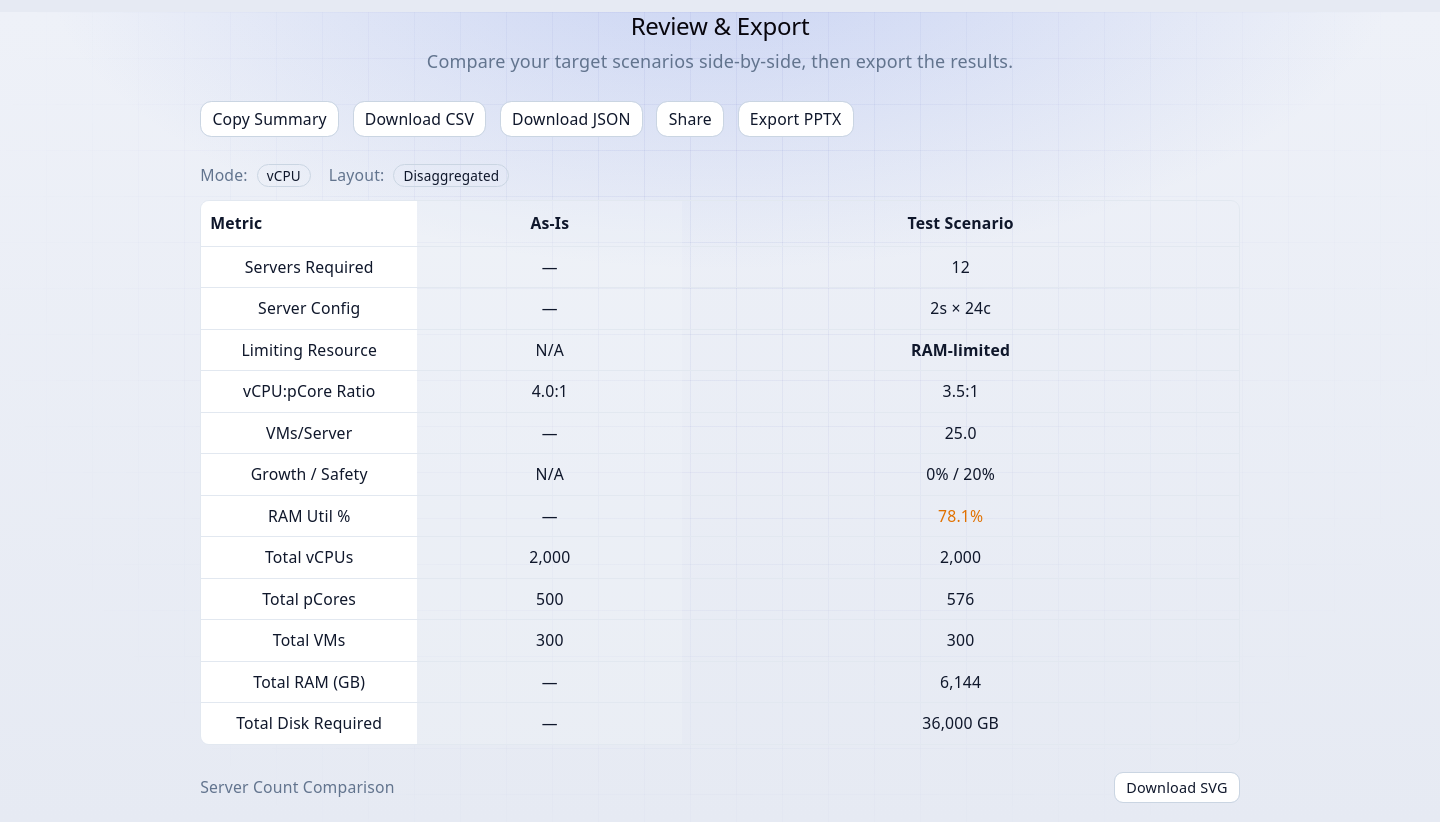
Test: Step3ReviewExport › UX-06: clipboard visual feedback › button label changes to "Copied!" immediately after successful copy
Click the button "Copy Summary": x=270, y=119 [200,101,339,137]
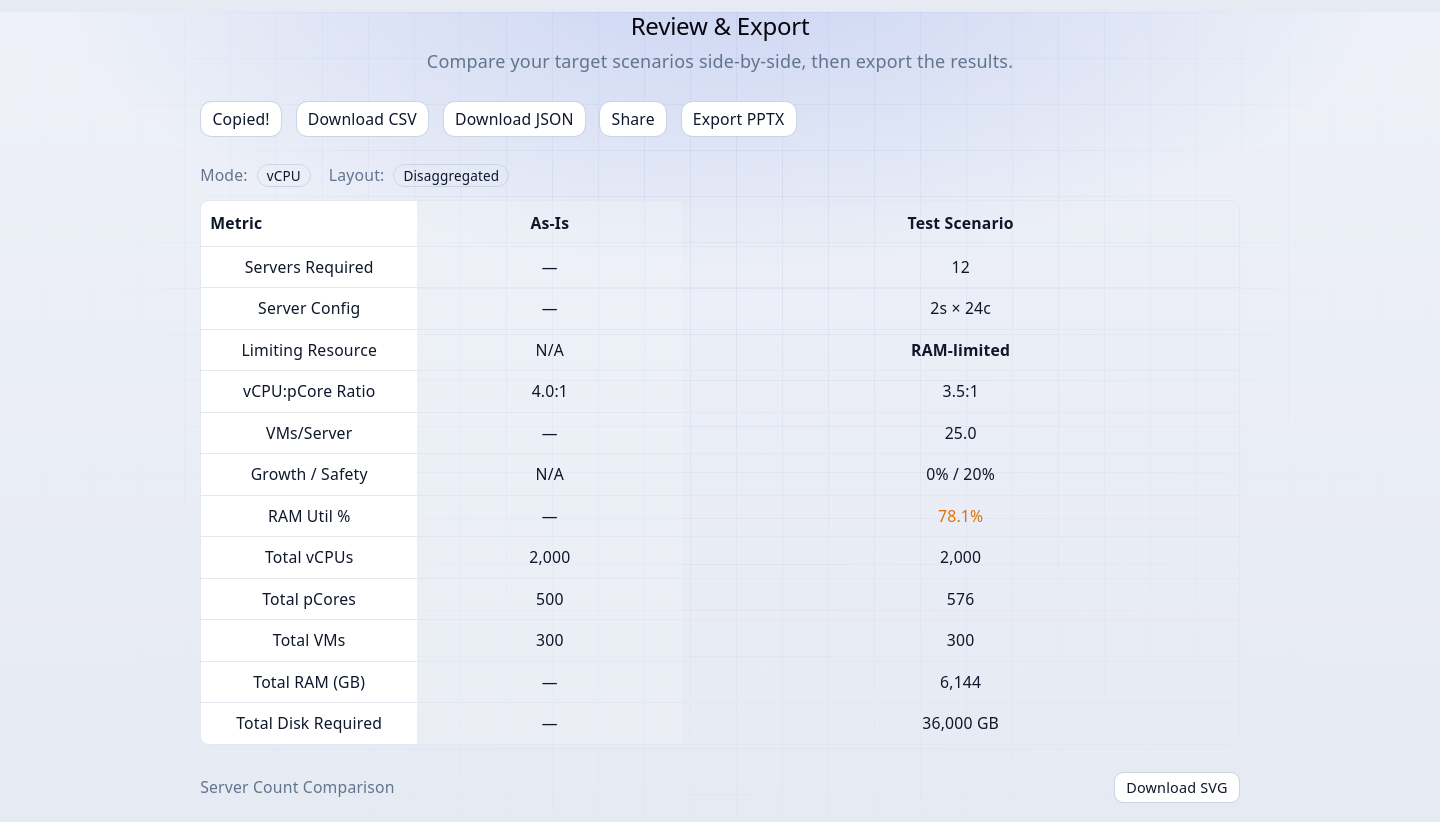
Result: the button "Copied!" is shown at [200,101,282,137]
